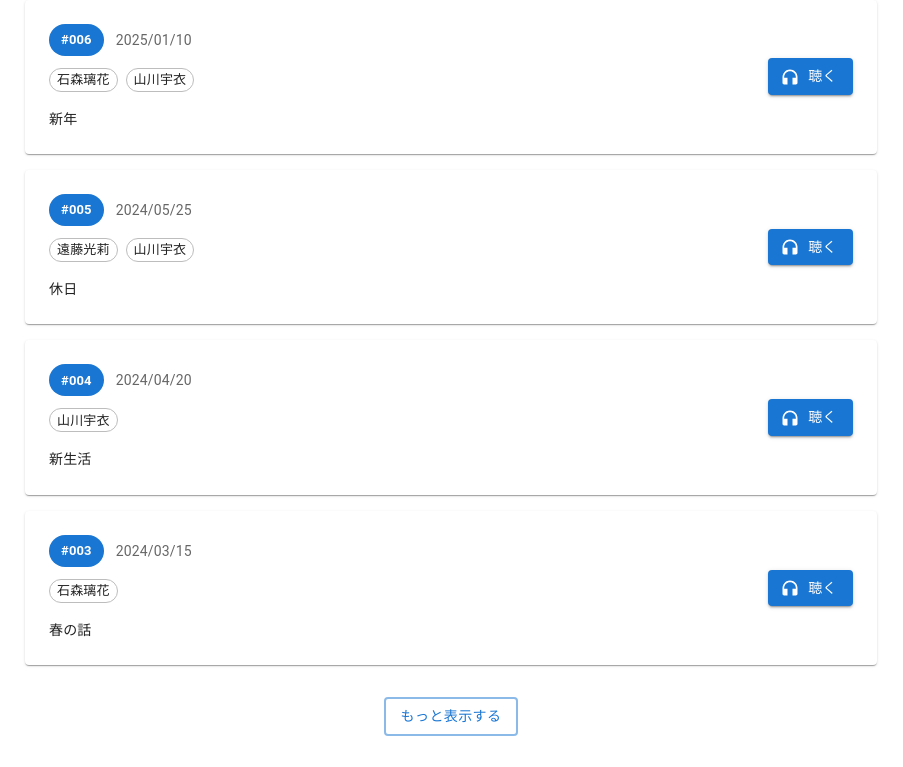
Test: SearchContainer › 検索条件の変更時に表示件数を10件へ戻す
The width and height of the screenshot is (903, 767).
(page scrolled)
Click the button "もっと表示する": {"x": 451, "y": 716} [384, 697, 518, 736]
(page scrolled)
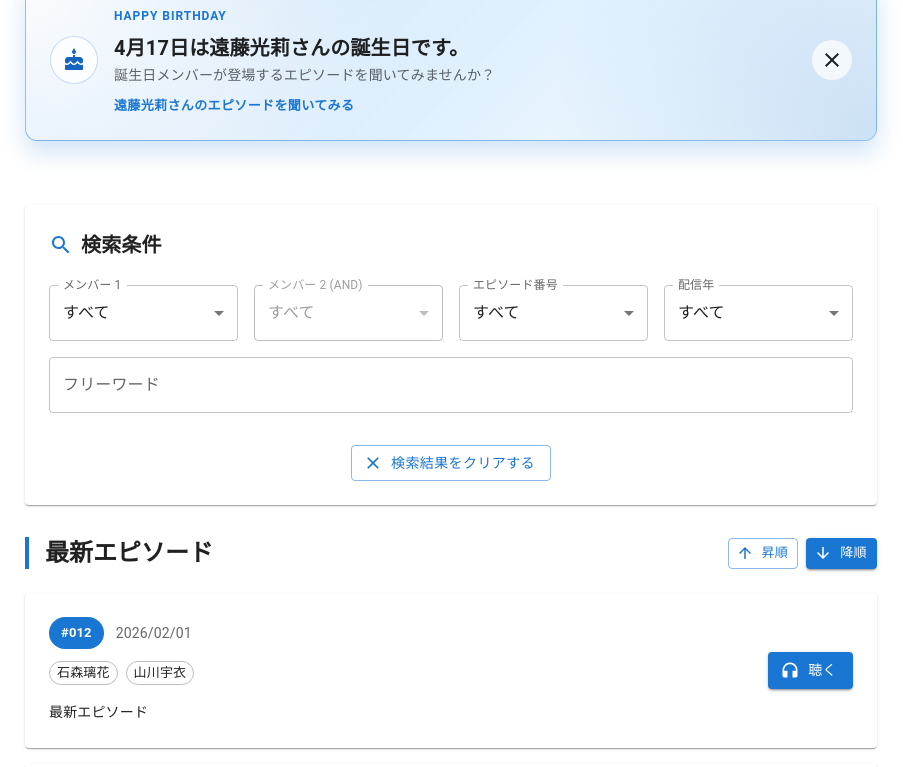
Expected: the number of links "聴く" is 12
In the field labelled "フリーワード": {"x": 451, "y": 385} [49, 357, 853, 413], type "a"
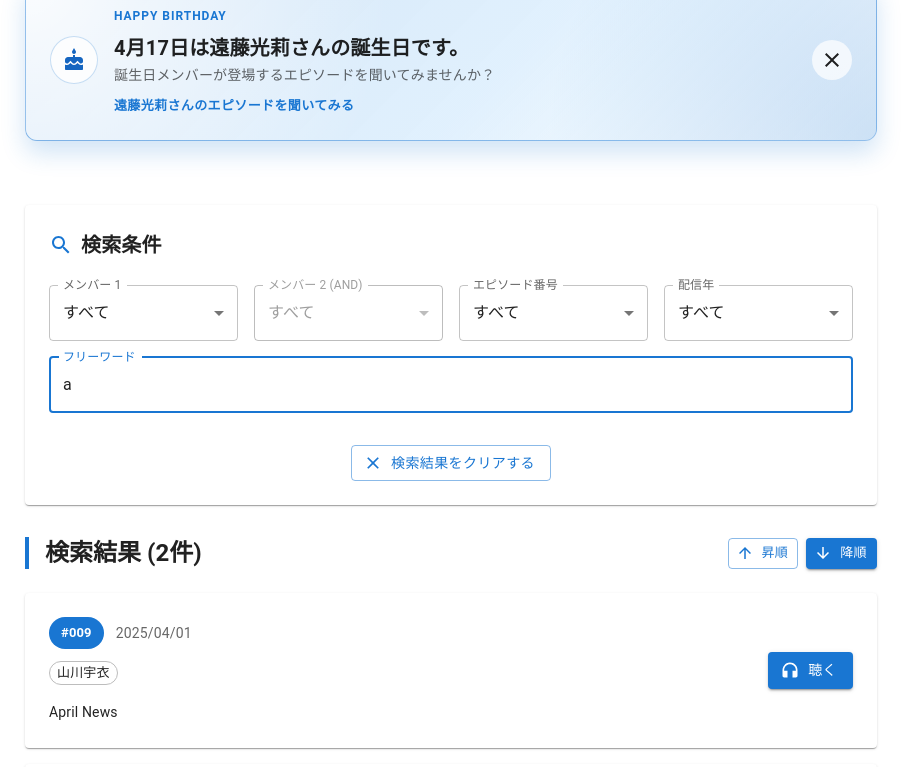
Clear the field labelled "フリーワード": {"x": 451, "y": 385} [49, 357, 853, 413]
(page scrolled)
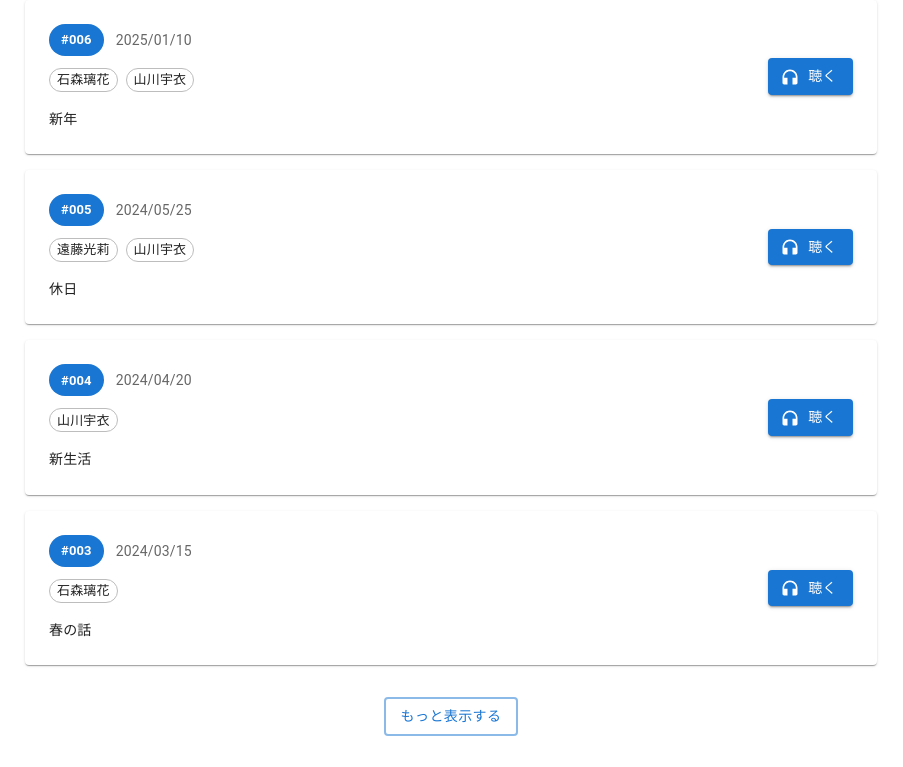
Expected: the number of links "聴く" is 10
Expected: the button "もっと表示する" is shown, [384, 697, 518, 736]
